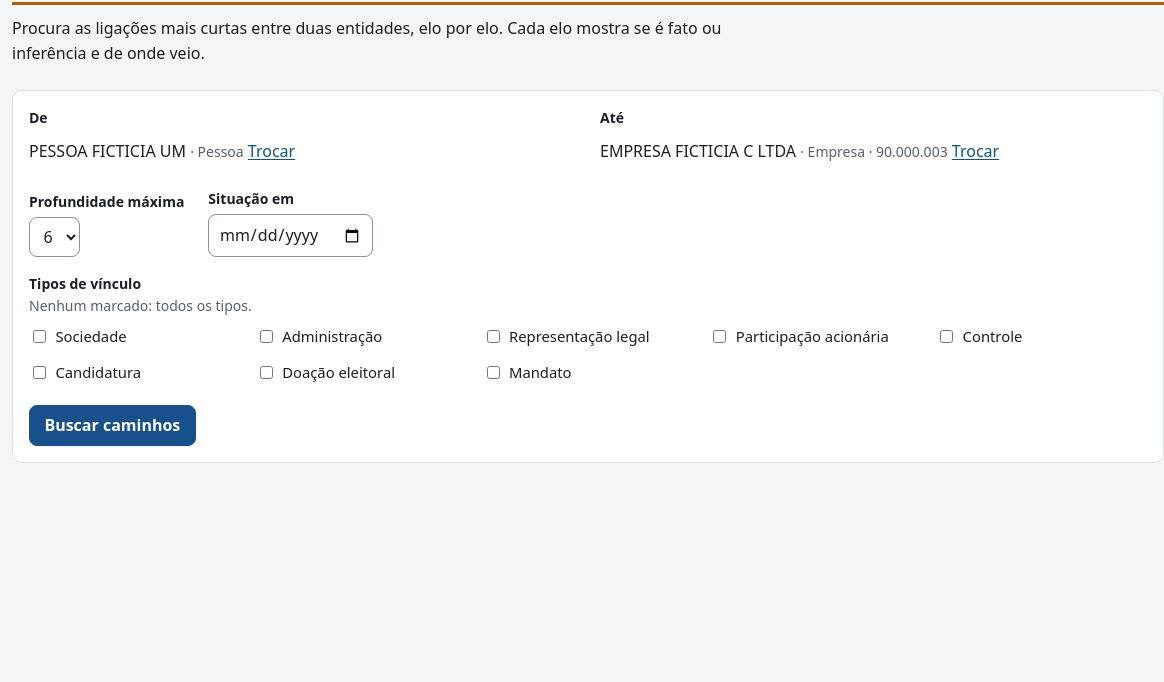
Test: PathsPage › caminhos: tarefa failed mostra o erro e botão de tentar de novo
Check: the text "EMPRESA FICTICIA C LTDA" is shown, box [600, 140, 796, 162]
Step 1. Select "3" in the dropdown labelled "Profundidade máxima" → (55,237), box [29, 217, 80, 257]
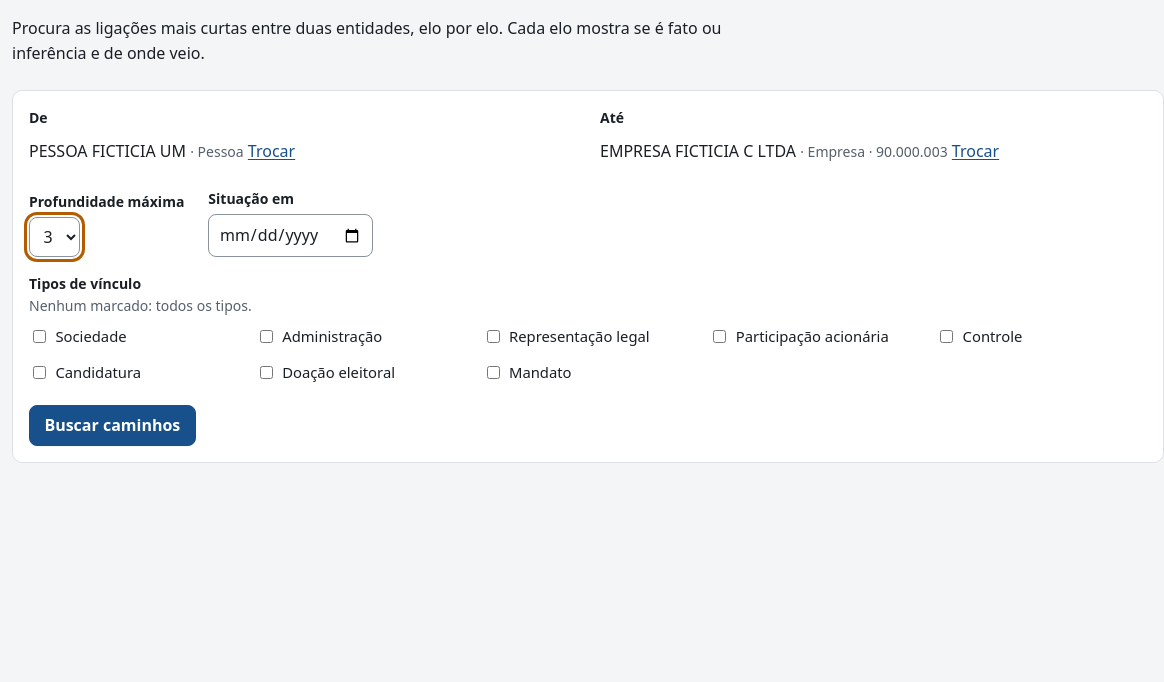
Step 2. Click the checkbox labelled "Doação eleitoral" → (266,372), box [260, 366, 273, 379]
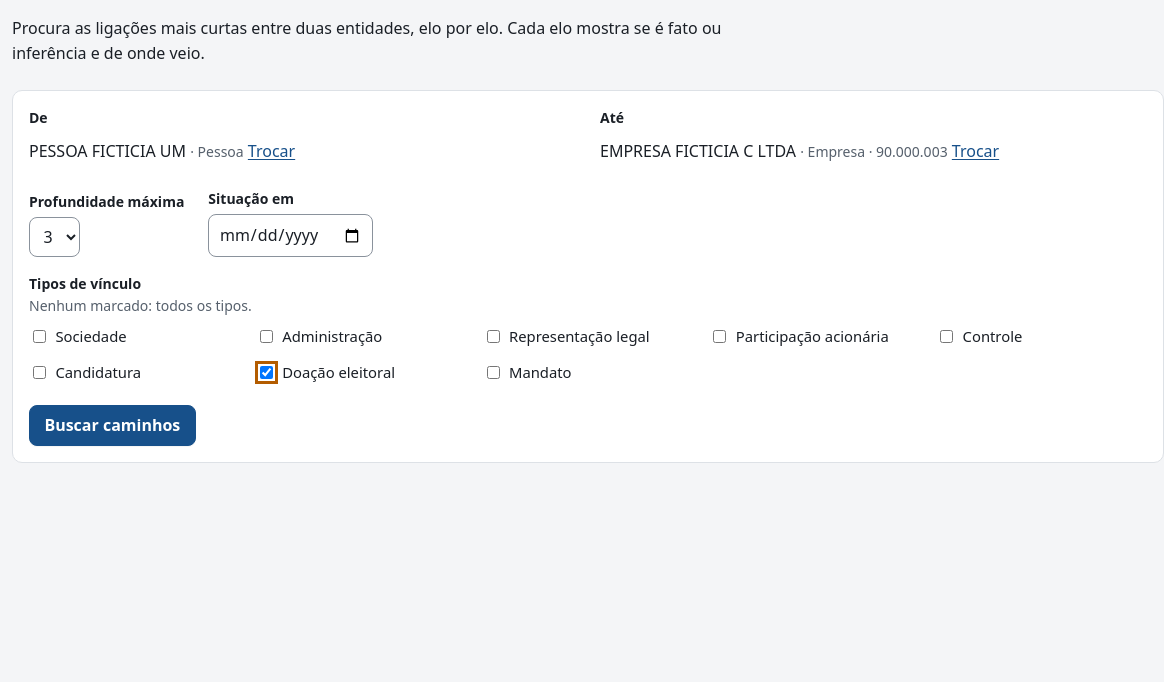
Step 3. Click the button "Buscar caminhos" → (112,425), box [29, 404, 196, 446]
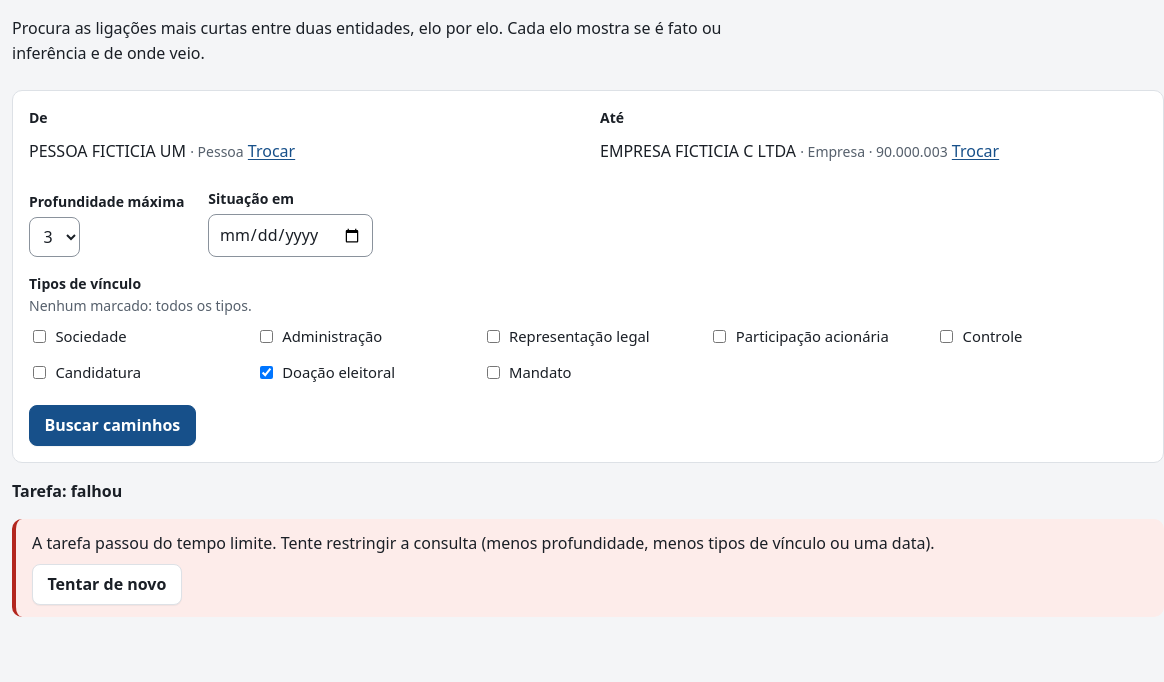
Check: the 2nd message shows "tempo limite", box [32, 532, 934, 554]
Check: the text "Tarefa: falhou" is shown, box [12, 480, 122, 502]
Step 4. Click the button "Tentar de novo" → (107,585), box [32, 564, 182, 606]
(page scrolled)
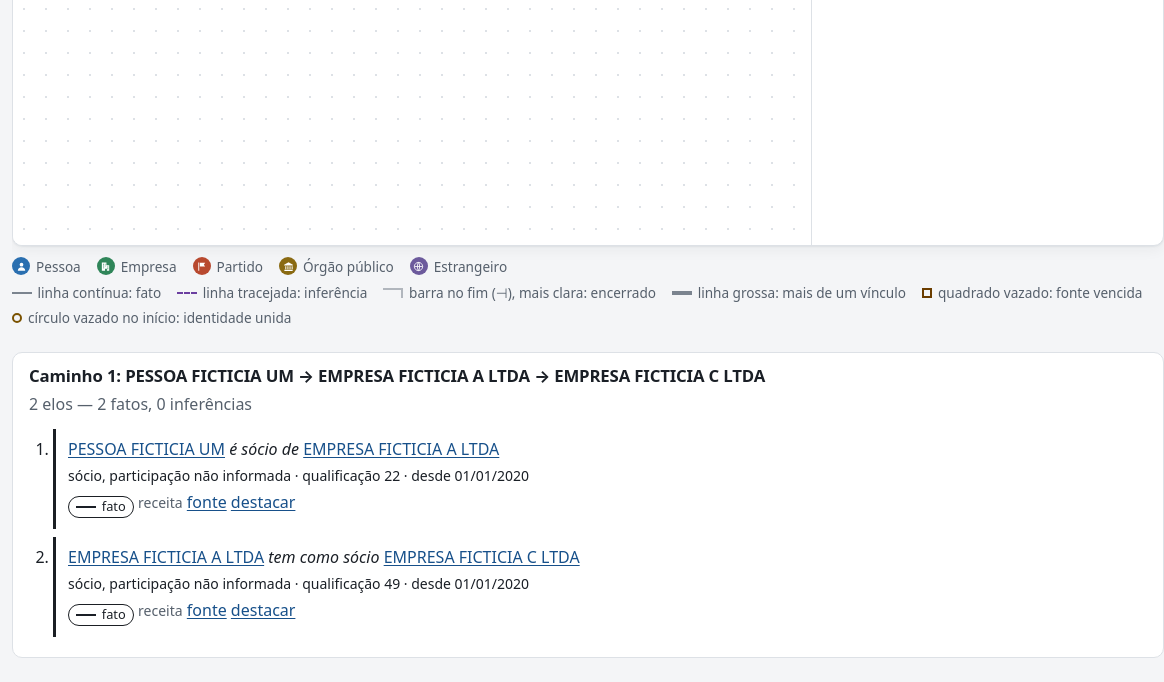
Check: the element "Caminho 1" is shown, box [12, 352, 1163, 658]
